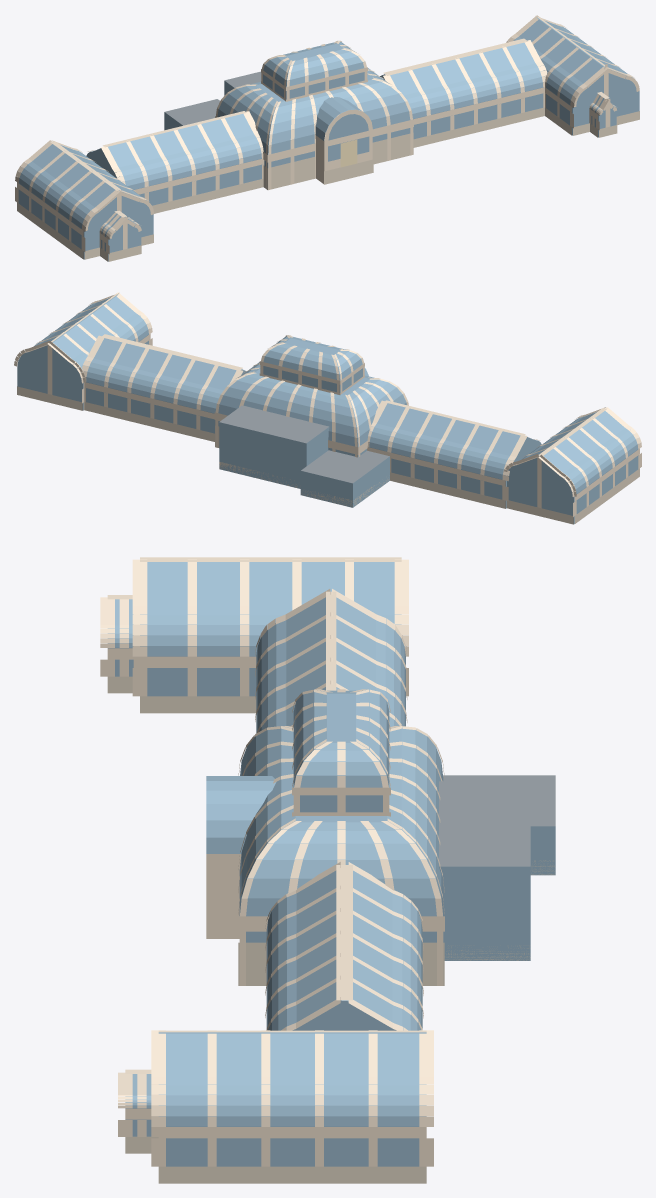
The picture shows the model from 3 angles, top to bottom: view 1: azimuth 30°, elevation 25°; view 2: azimuth 150°, elevation 25°; view 3: azimuth 270°, elevation 25°; orthographic projection. The views are drawn at different scales.
Parts seen in each view (by area): view 1: volunteer-park-conservatory; view 2: volunteer-park-conservatory; view 3: volunteer-park-conservatory.
Part boxes in pixels (left/top/right/bottom): volunteer-park-conservatory: left=15, top=15, right=639, bottom=261; volunteer-park-conservatory: left=14, top=292, right=641, bottom=524; volunteer-park-conservatory: left=100, top=557, right=555, bottom=1183.
Bounding box in the file's own units: 61.84 × 10.57 × 21.9.
